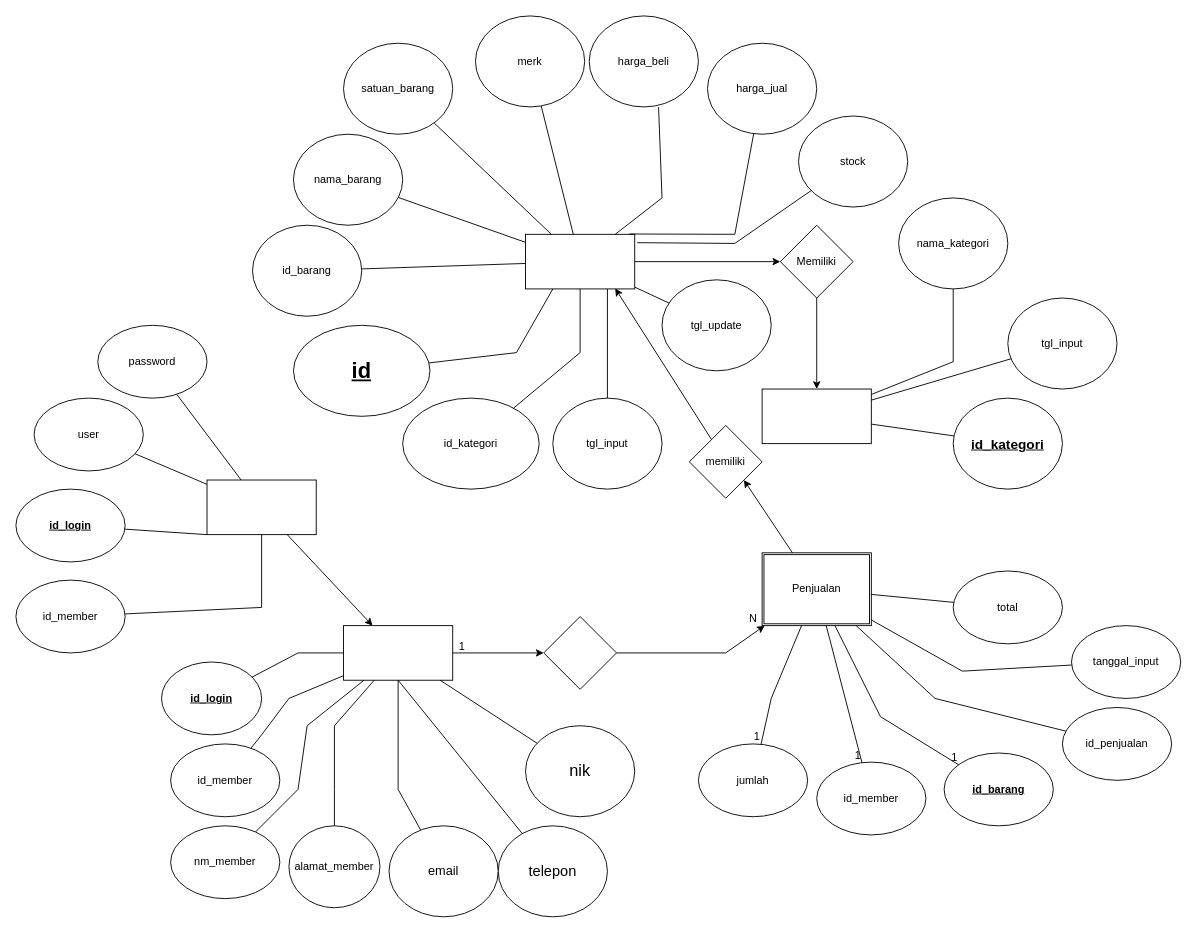
Some shapes in this 1197 by 933 pixel diagram are drawn without their labels. The centre of each missing label's shape, as x and y in pixels:
barang: pixel 580 261
kategori: pixel 816 416
login: pixel 261 507
melakukan: pixel 580 652
member: pixel 398 652
